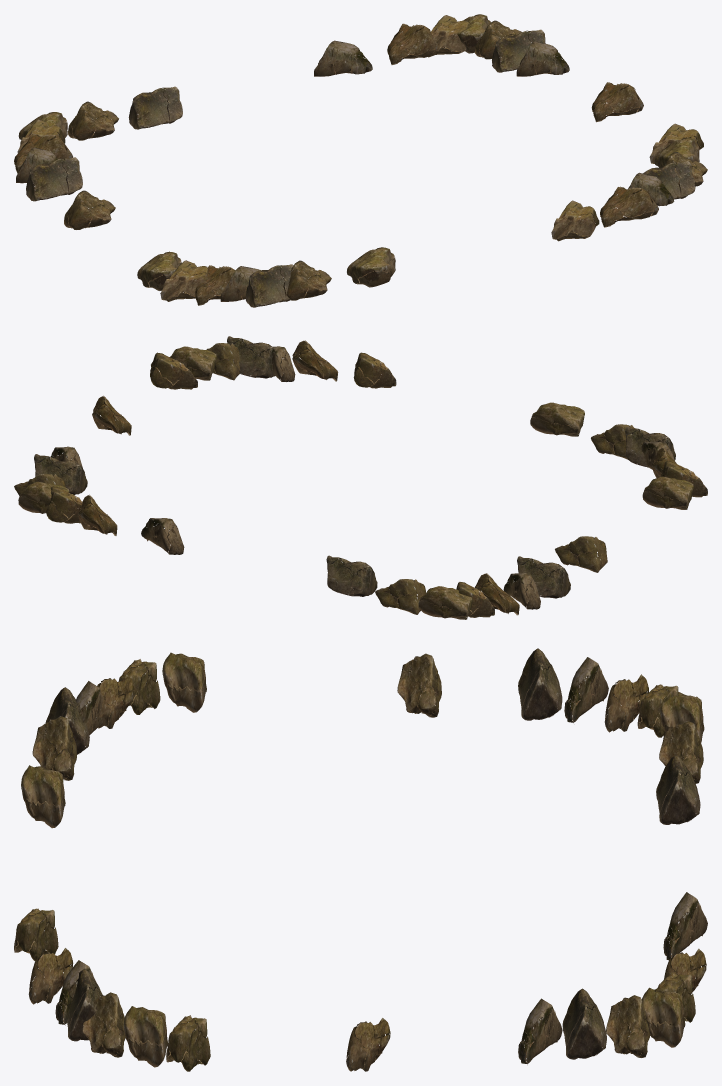
File: arena_fracture_rim_0.glb
3 renders of one model, top to bottom at view 1: azimuth 30°, elevation 25°; view 2: azimuth 150°, elevation 25°; view 3: azimuth 270°, elevation 25°, orthographic. The views are drawn at different scales.
Visible parts, largest first — view 1: Fitted thirty naturally fractured cliff stones; view 2: Fitted thirty naturally fractured cliff stones; view 3: Fitted thirty naturally fractured cliff stones.
Part boxes in pixels (x1,y1,x2,y2): Fitted thirty naturally fractured cliff stones: (14,14,707,307); Fitted thirty naturally fractured cliff stones: (14,336,707,619); Fitted thirty naturally fractured cliff stones: (14,648,707,1071).
Bounding box in the file's own units: 37.7 × 2.22 × 28.05.
1 material, 1 textured.
